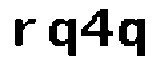4: (80, 7, 114, 51)
q: (47, 16, 79, 59), (116, 18, 147, 60)
r: (12, 18, 41, 52)
